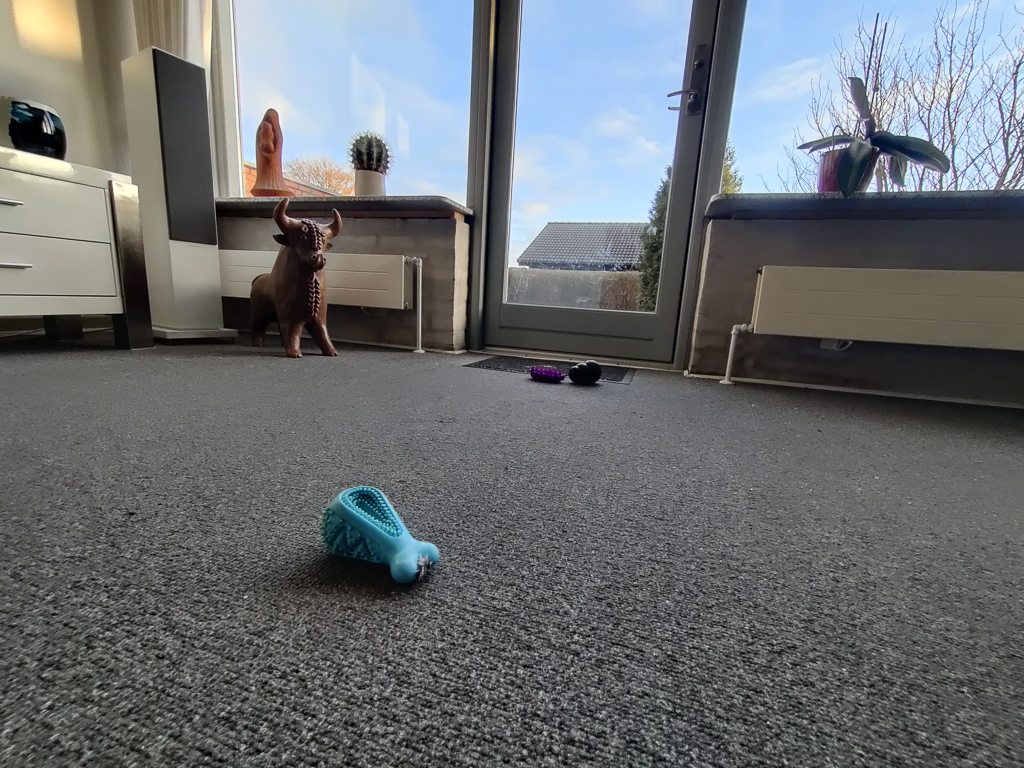Cattle: (241, 193, 345, 370)
Humanoid: (244, 105, 296, 194)
